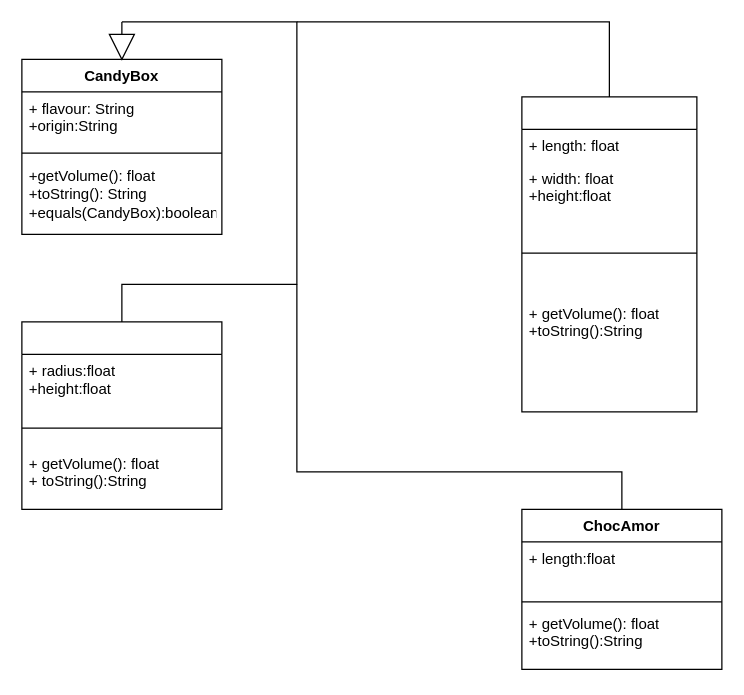
Image size: 744x695. Some labels were removed from this diagram. Each missing label, with the box of its shape:
Baravelli: (21, 321, 222, 509)
Lindth: (521, 96, 697, 412)
